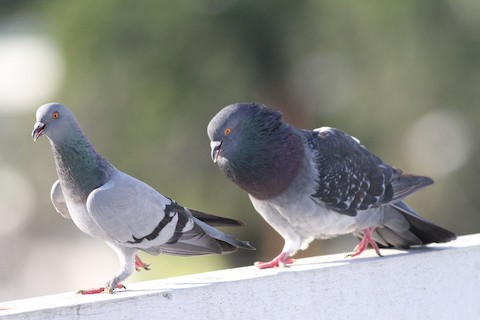pigeon: (196, 91, 463, 278), (30, 96, 262, 297)
